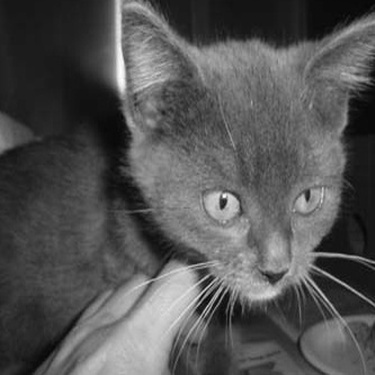cat: (21, 1, 369, 360)
